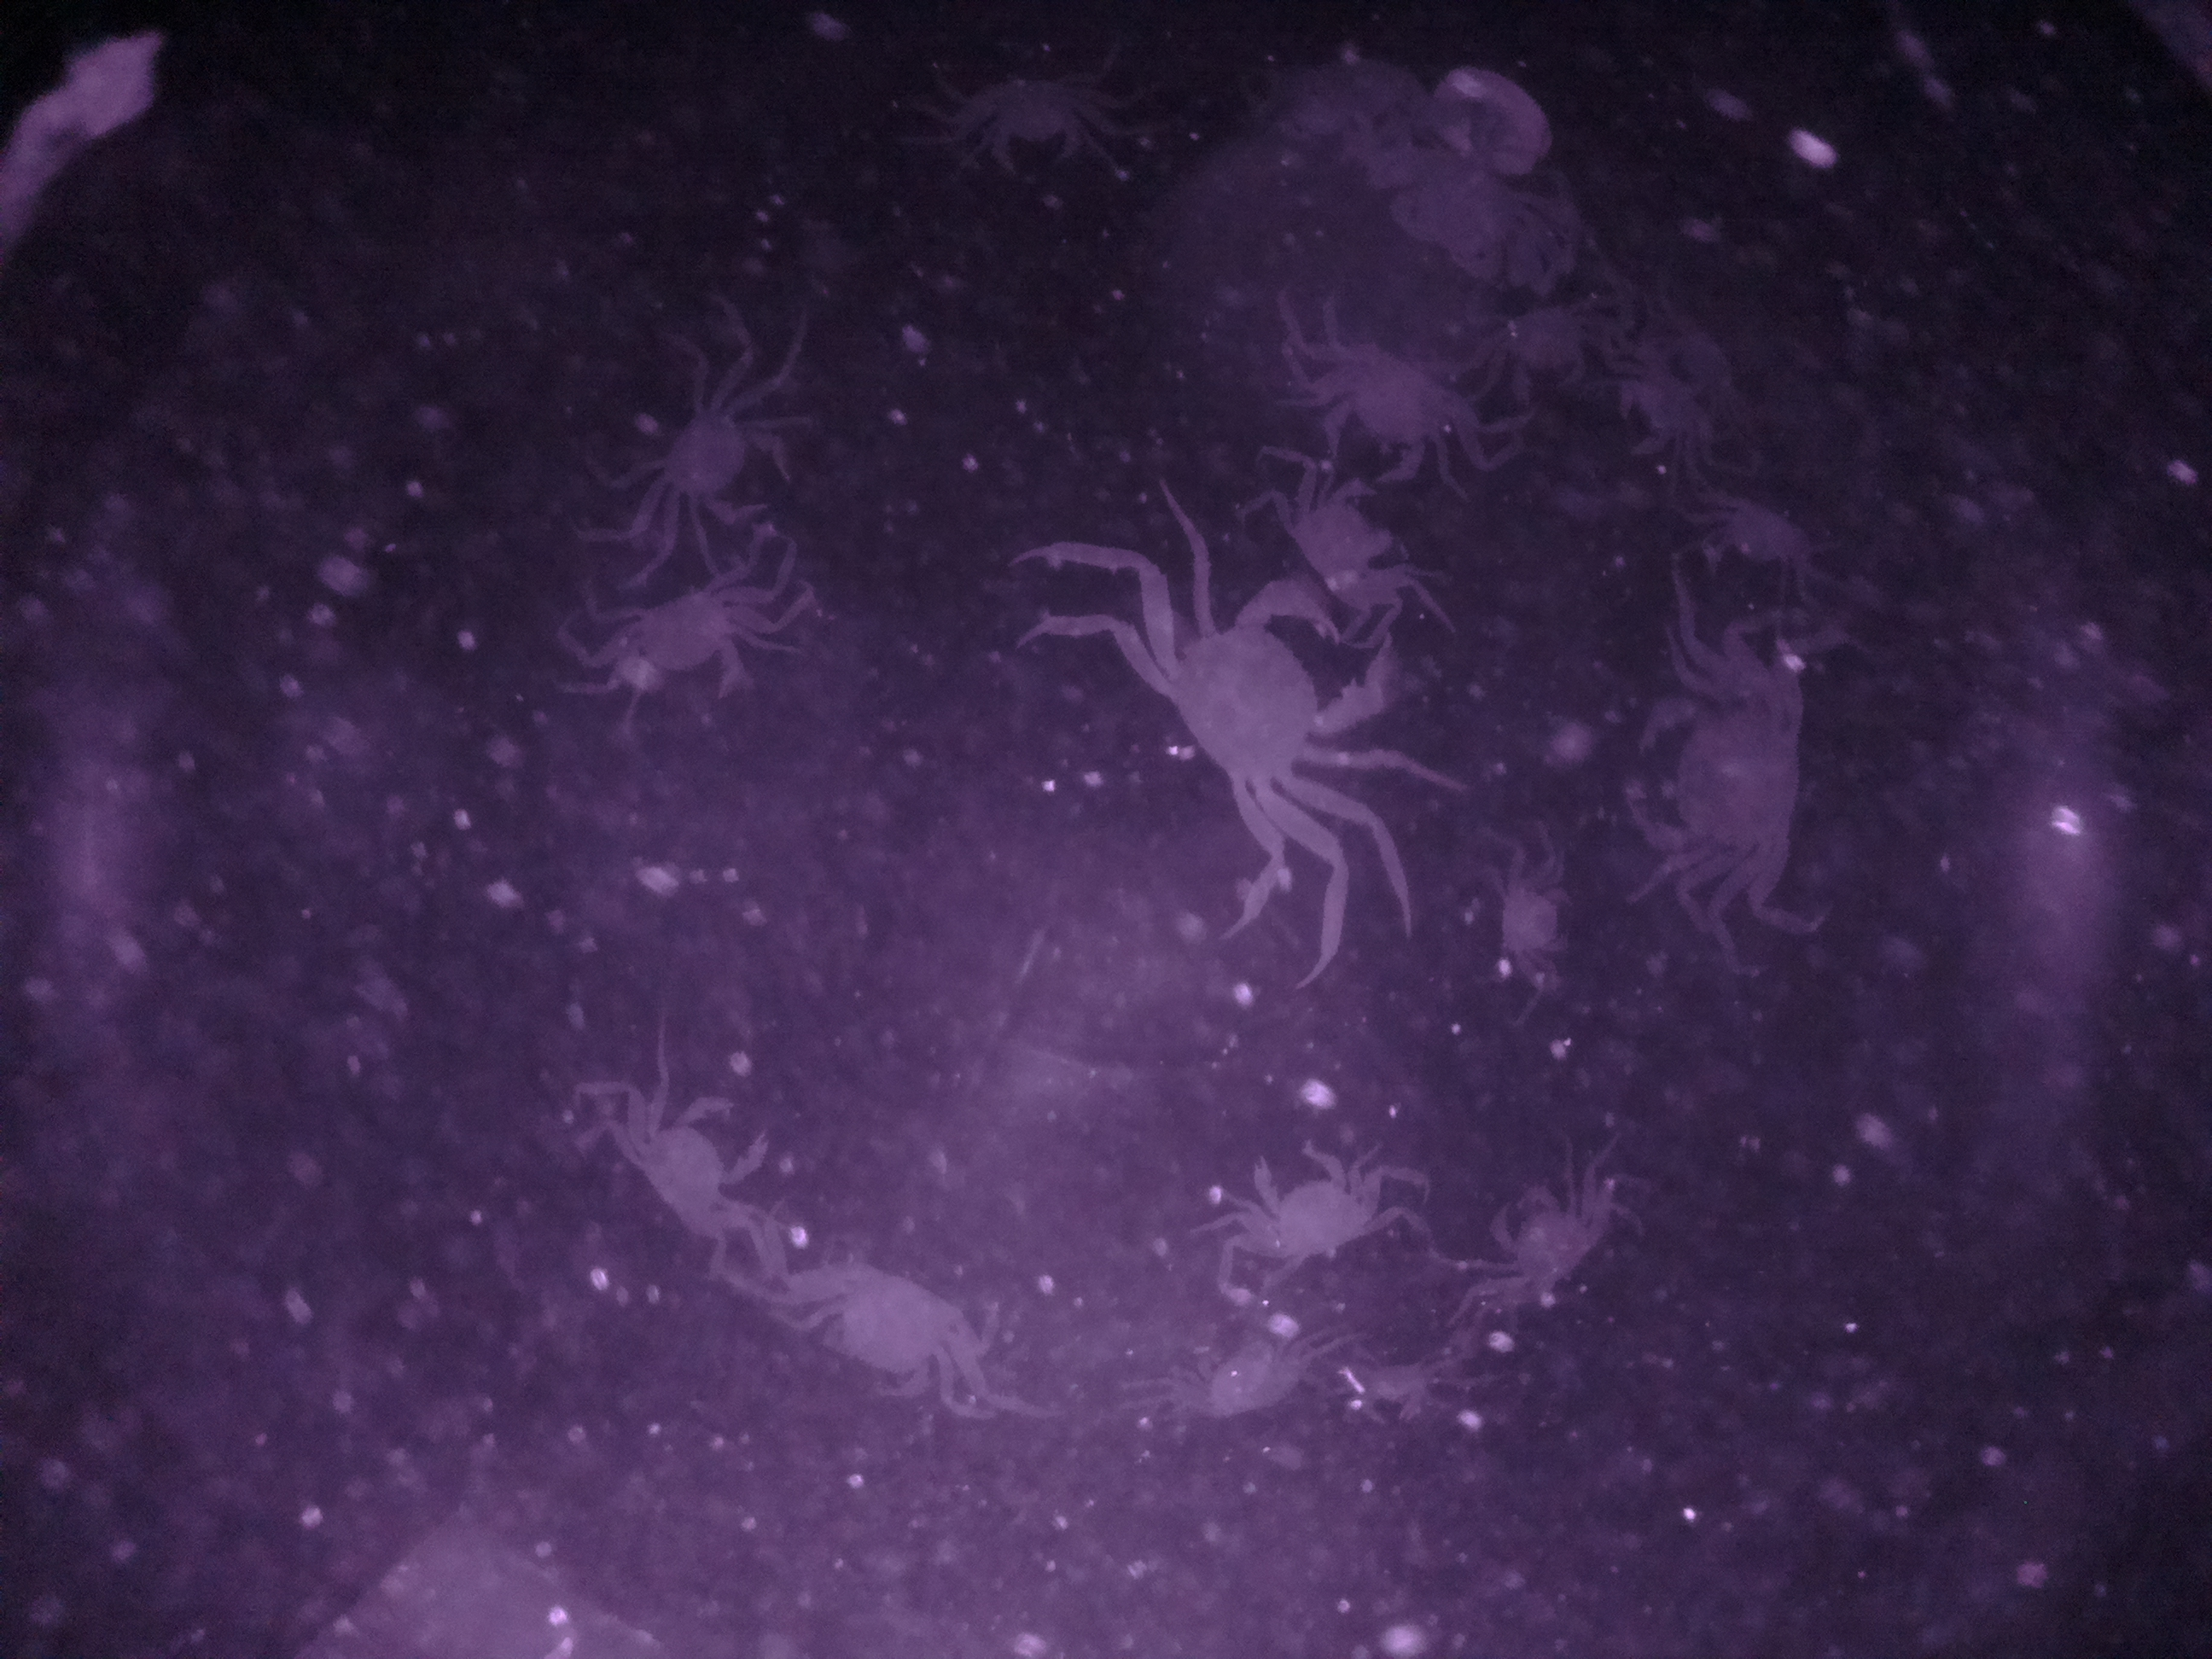Crab: (1122, 572, 1406, 861), (1599, 660, 1832, 899), (784, 1244, 988, 1432), (608, 1075, 786, 1277), (1275, 331, 1472, 491), (627, 375, 812, 544), (1219, 1127, 1400, 1277), (1461, 1161, 1623, 1323)
